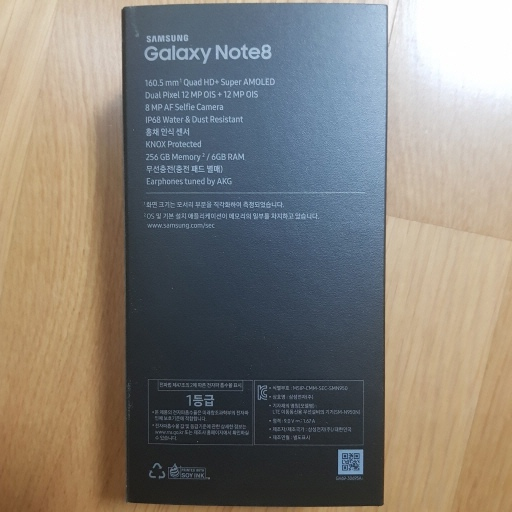Paper_0: (111, 2, 393, 510)
